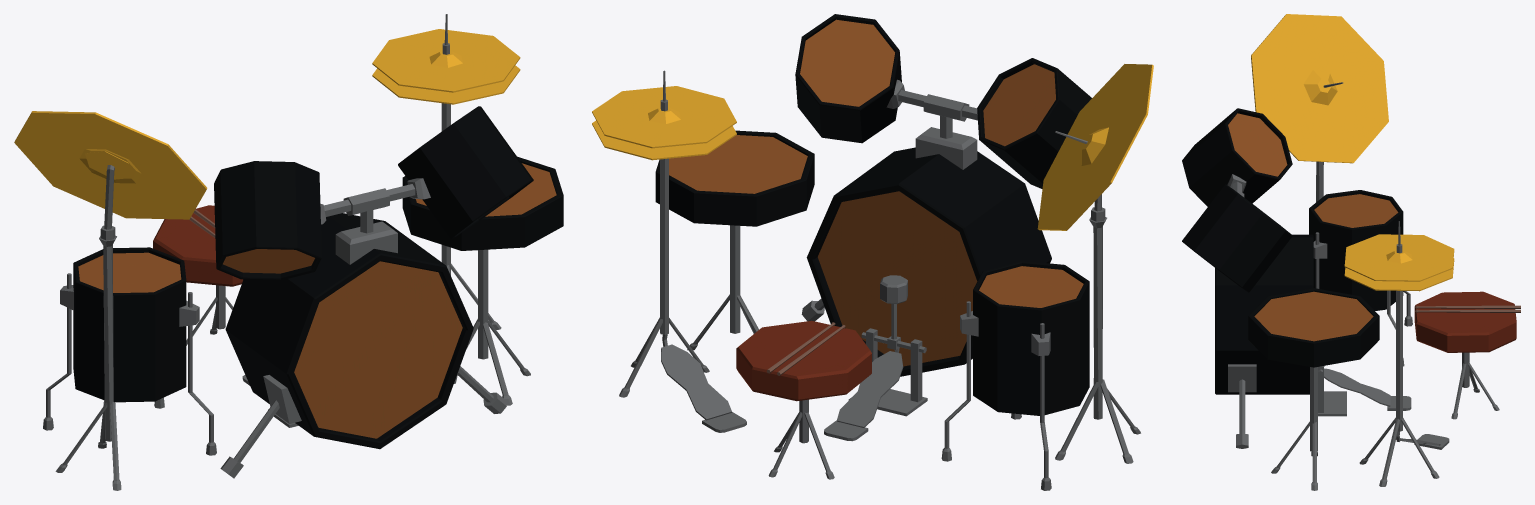
File: drum-set.glb
3 renders of one model, left to right at view 1: azimuth 30°, elevation 25°; view 2: azimuth 150°, elevation 25°; view 3: azimuth 270°, elevation 25°, orthographic. The views are drawn at different scales.
Visible parts, largest first — view 1: DrumSet1; view 2: DrumSet1; view 3: DrumSet1.
Part boxes in pixels (x1,y1,x2,y2): DrumSet1: [14, 14, 563, 490]; DrumSet1: [592, 14, 1153, 490]; DrumSet1: [1182, 14, 1520, 490].
Bounding box in the file's own units: 2.44 × 1.75 × 1.78.
Materials: 1 (1 with a texture image).
